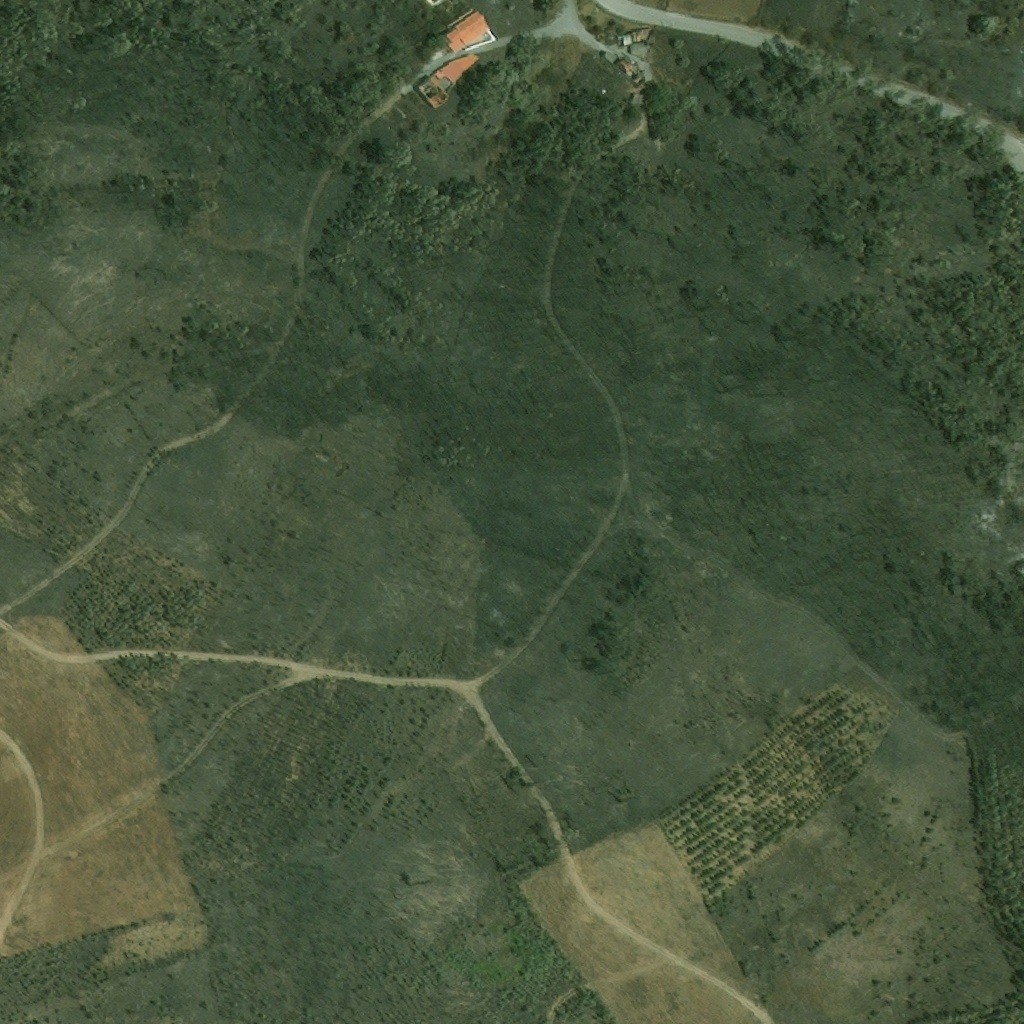0 no-damage: (446, 11, 489, 53), (432, 54, 478, 83)
2 major-damage: (425, 45, 446, 62)
3 destroyed: (417, 76, 448, 109), (613, 58, 643, 91), (617, 28, 655, 48), (602, 54, 617, 66)
